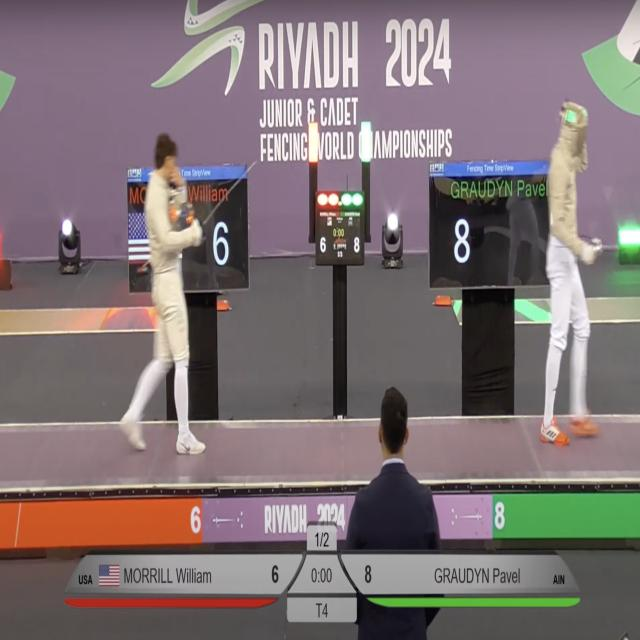fencer: (122, 131, 208, 465), (538, 95, 608, 453)
overlayLeft: (61, 550, 259, 595)
overlayRight: (385, 551, 581, 593)
scoreLeft: (261, 552, 306, 595)
scoreRight: (338, 553, 381, 594)
